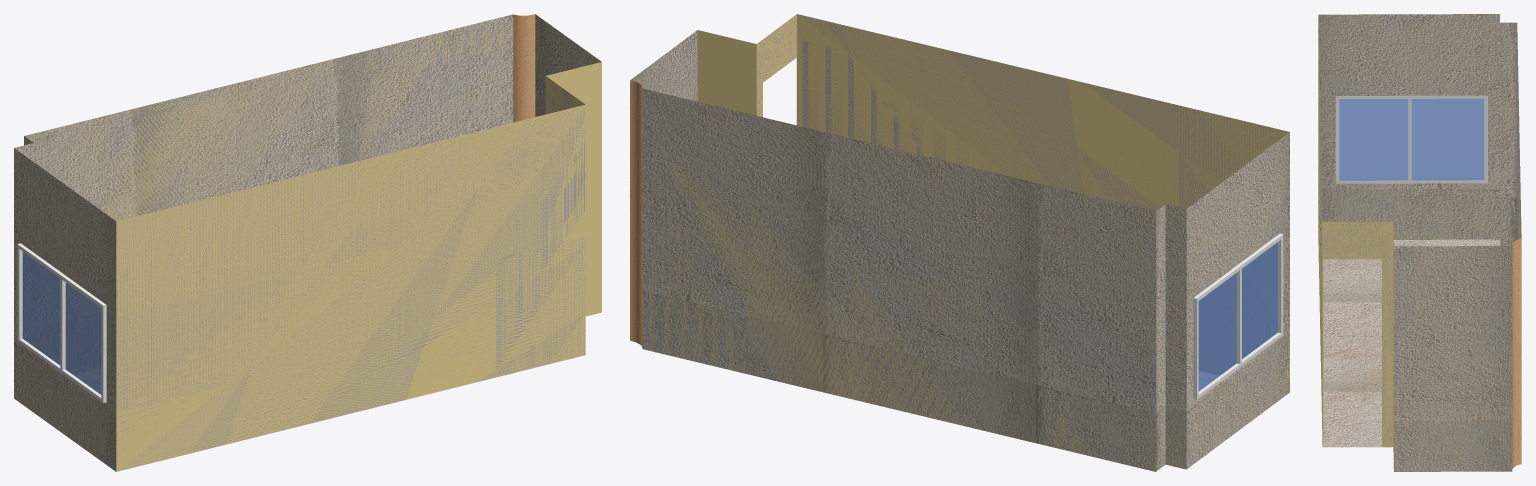
The model's file is DES031.obj.
3 views of the same model, side by side, from view 1: azimuth 30°, elevation 25°; view 2: azimuth 150°, elevation 25°; view 3: azimuth 270°, elevation 25° (orthographic). The views are drawn at different scales.
Visible parts, largest first — view 1: Mesh6 DES031 Model, Mesh1 ventana2_1 DES031 Model; view 2: Mesh6 DES031 Model, Mesh1 ventana2_1 DES031 Model; view 3: Mesh6 DES031 Model, Mesh1 ventana2_1 DES031 Model.
Part boxes in pixels (<box>): Mesh6 DES031 Model: <box>14,14,601,471</box>; Mesh1 ventana2_1 DES031 Model: <box>17,243,106,402</box>; Mesh6 DES031 Model: <box>630,14,1289,471</box>; Mesh1 ventana2_1 DES031 Model: <box>1193,233,1283,399</box>; Mesh6 DES031 Model: <box>1318,14,1521,471</box>; Mesh1 ventana2_1 DES031 Model: <box>1335,95,1487,183</box>.
Size of the model in its own units: 8 by 3.6 by 2.94.
Materials: 8 (2 with a texture image).
